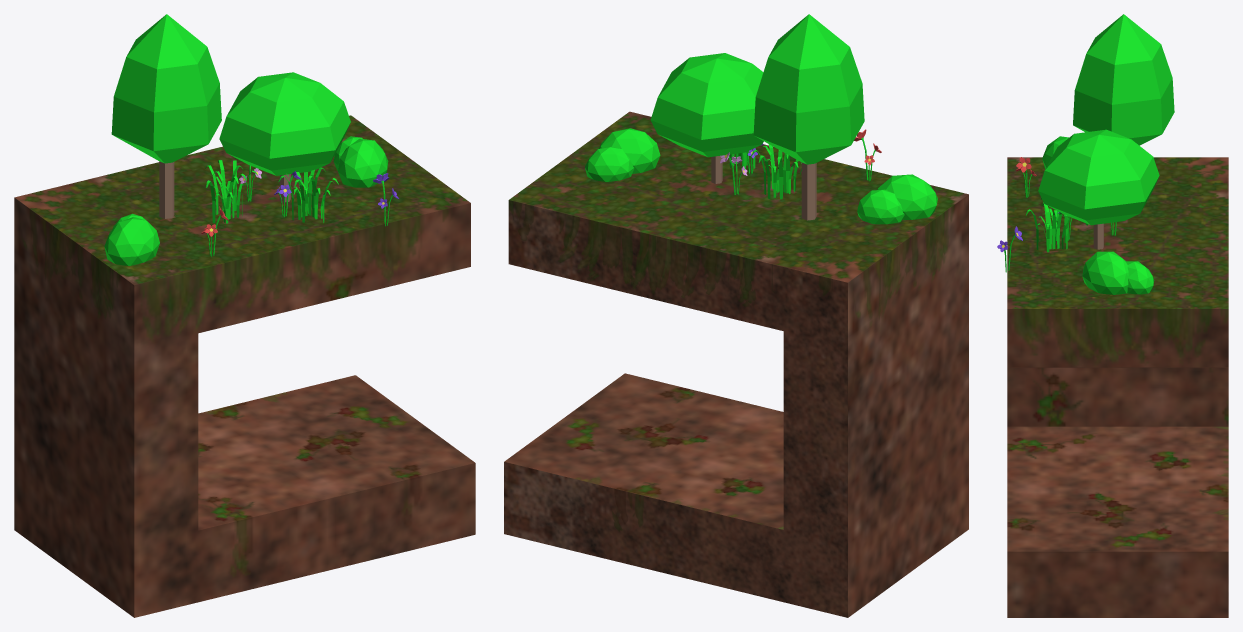
The model's file is base_stuck_001.fbx.
The picture shows the model from 3 angles, left to right: view 1: azimuth 30°, elevation 25°; view 2: azimuth 150°, elevation 25°; view 3: azimuth 270°, elevation 25°; orthographic projection. The views are drawn at different scales.
Parts seen in each view (by area): view 1: base_under.002; view 2: base_under.002; view 3: base_under.002.
Boxes of the visible parts, x1,y1,x2,y2 form: base_under.002: (14,14,475,617); base_under.002: (504,14,968,617); base_under.002: (997,14,1228,617).
Size of the model in its own units: 5.4 by 8.08 by 3.44.
